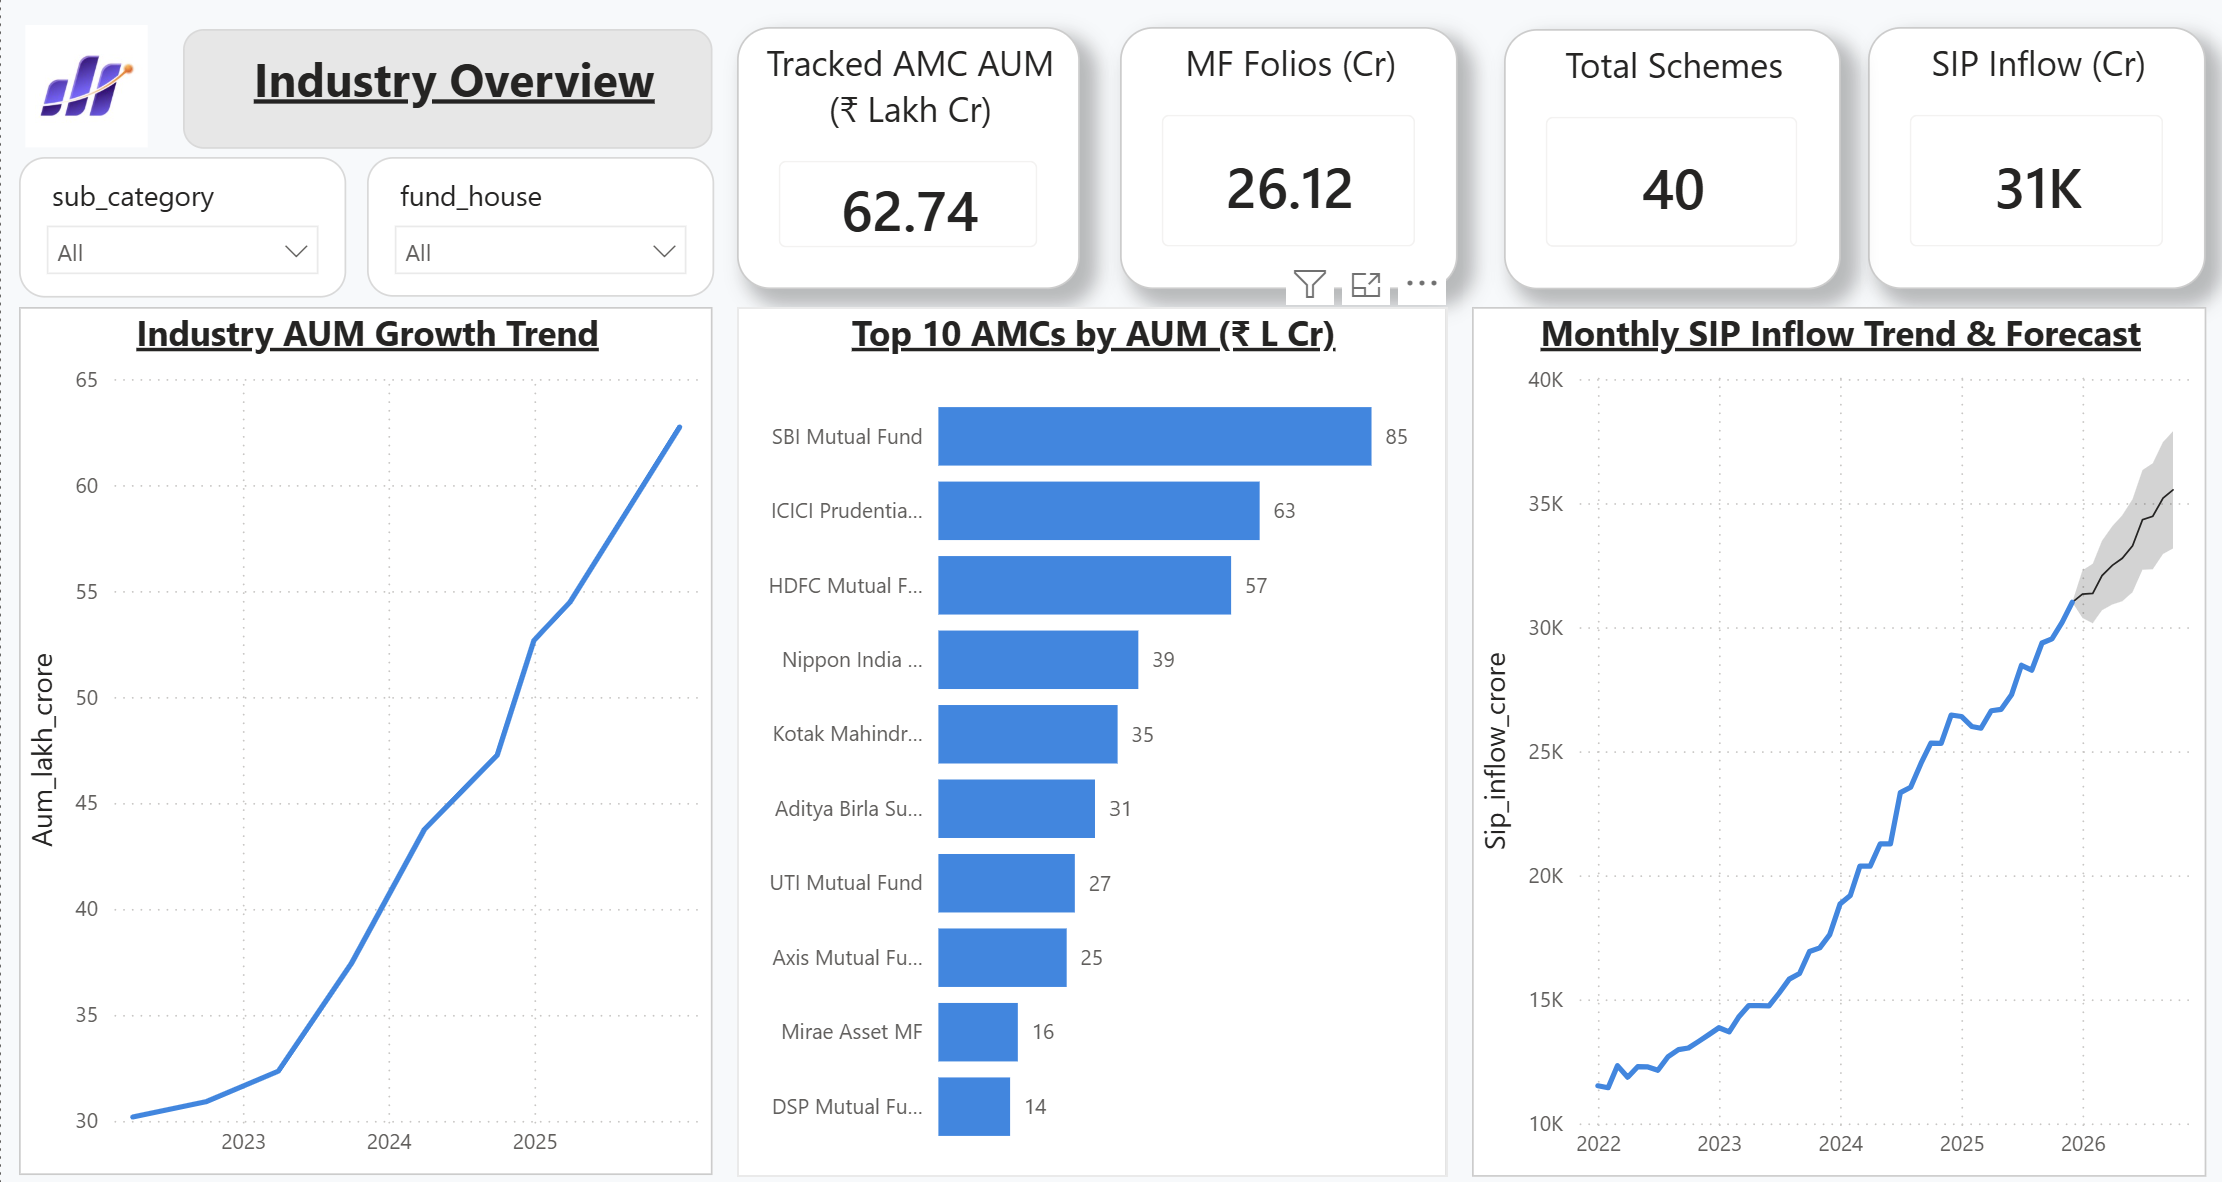

Layout of this report page (visuals, bound fields, positions):
{"tool":"powerbi","page":{"name":"Industry Overview","canvas":[1280,720],"ordinal":0},"visuals":[{"type":"cardVisual","title":"Tracked AMC AUM   (₹ Lakh Cr)","fields":{"Data":["03_aum_by_fund_house_cleaned.Latest Total AUM"]},"box":[424.2,50.9,197.6,151.1],"z":0},{"type":"cardVisual","title":"SIP Inflow (Cr)","fields":{"Data":["Max(04_monthly_sip_inflows_cleaned.sip_inflow_crore)"]},"box":[1075.1,50.9,194.7,151.1],"z":1000},{"type":"cardVisual","title":"MF Folios (Cr)","fields":{"Data":["Max(06_industry_folio_count_cleaned.total_folios_crore)"]},"box":[643.6,50.9,194.7,151.1],"z":2000},{"type":"cardVisual","title":"Total Schemes","fields":{"Data":["01_fund_master_cleaned.Total Schemes"]},"box":[865.2,51.5,193.9,150],"z":3000},{"type":"lineChart","title":"Industry AUM Growth Trend","fields":{"Y":["Sum(03_aum_by_fund_house_cleaned.aum_lakh_crore)"],"Category":["03_aum_by_fund_house_cleaned.date"]},"box":[10.2,212.1,399.5,499.8],"z":4000},{"type":"barChart","title":"Top 10 AMCs by AUM (₹ L Cr)","fields":{"Y":["Sum(03_aum_by_fund_house_cleaned.aum_lakh_crore)"],"Category":["03_aum_by_fund_house_cleaned.fund_house"]},"box":[424.2,212.1,408.3,501.2],"z":5000},{"type":"lineChart","title":"Monthly SIP Inflow Trend & Forecast","fields":{"Y":["Sum(04_monthly_sip_inflows_cleaned.sip_inflow_crore)"],"Category":["04_monthly_sip_inflows_cleaned.month"]},"box":[847,212.1,422.8,501.2],"z":6000},{"type":"slicer","fields":{"Values":["01_fund_master_cleaned.sub_category"]},"box":[10.6,126,188.4,80.9],"z":7000},{"type":"slicer","fields":{"Values":["01_fund_master_cleaned.fund_house"]},"box":[210.6,125.8,200,80.3],"z":8000},{"type":"textbox","box":[104.4,51.4,305.1,69.1],"z":9000},{"type":"image","box":[11.2,49.8,75.5,70.7],"z":10000}]}

Visuals, with their boxes on the page's 1280x720 design canvas (x1, y1, x2, y2). These are canvas units, not pixel positions in the 2222x1182 screenshot, which may show the page scaled, cropped or inside an application window:
"Tracked AMC AUM   (₹ Lakh Cr)" cardVisual: box(424, 51, 622, 202)
"SIP Inflow (Cr)" cardVisual: box(1075, 51, 1270, 202)
"MF Folios (Cr)" cardVisual: box(644, 51, 838, 202)
"Total Schemes" cardVisual: box(865, 52, 1059, 202)
"Industry AUM Growth Trend" lineChart: box(10, 212, 410, 712)
"Top 10 AMCs by AUM (₹ L Cr)" barChart: box(424, 212, 832, 713)
"Monthly SIP Inflow Trend & Forecast" lineChart: box(847, 212, 1270, 713)
slicer - 01_fund_master_cleaned.sub_category: box(11, 126, 199, 207)
slicer - 01_fund_master_cleaned.fund_house: box(211, 126, 411, 206)
textbox: box(104, 51, 410, 120)
image: box(11, 50, 87, 120)
